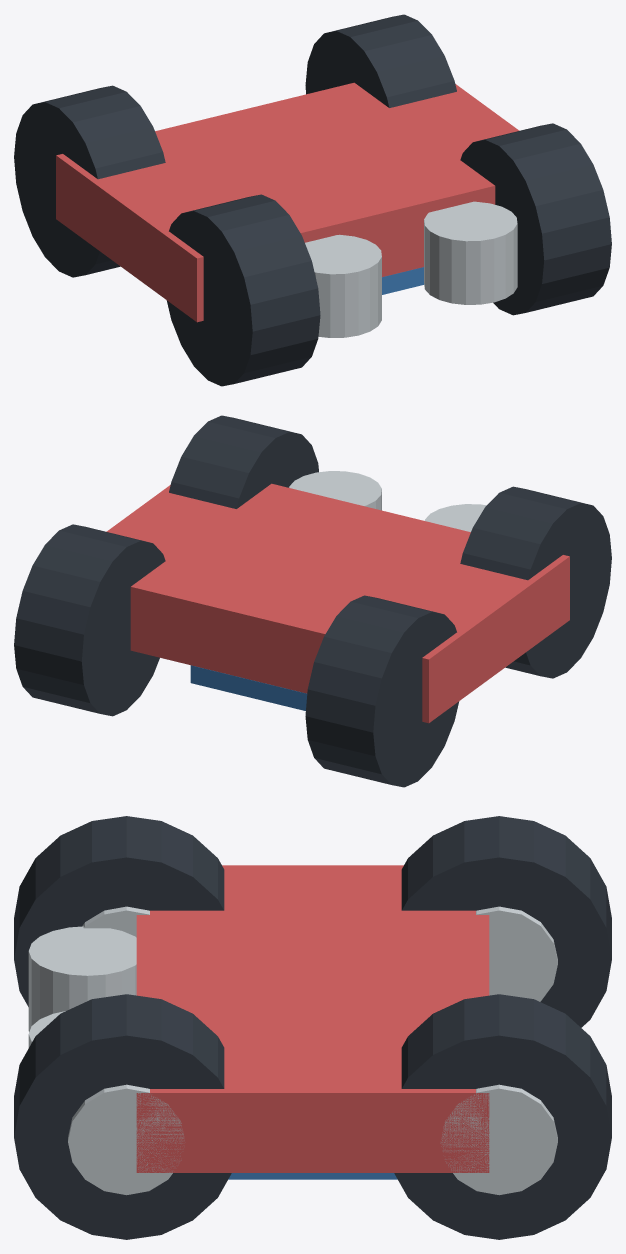
The model's file is product-25.glb.
3 views of the same model, one above another, from view 1: azimuth 30°, elevation 25°; view 2: azimuth 150°, elevation 25°; view 3: azimuth 270°, elevation 25° (orthographic). The views are drawn at different scales.
Visible parts, largest first — view 1: product-25; view 2: product-25; view 3: product-25.
Part boxes in pixels (x1,y1,x2,y2): product-25: [14, 14, 611, 386]; product-25: [14, 415, 611, 787]; product-25: [14, 816, 611, 1239].
Bounding box in the file's own units: 1.1 × 0.46 × 1.22.
